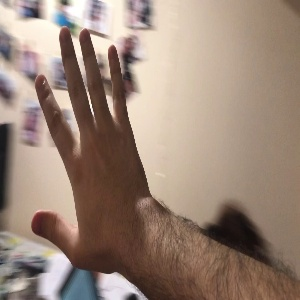hand: (35, 27, 145, 259)
